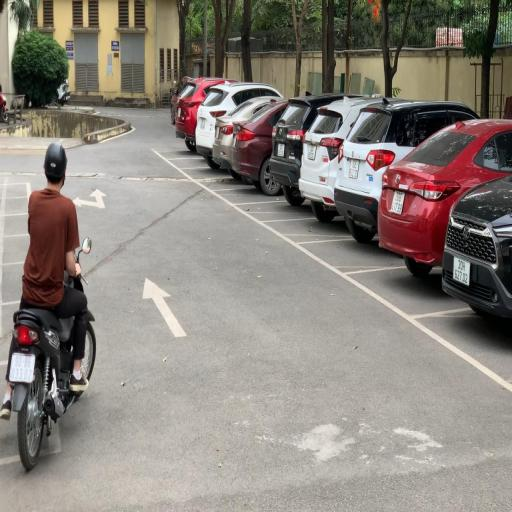bike: (0, 136, 96, 474)
numberplate: (8, 353, 36, 383)
with helmet: (44, 141, 68, 178)
